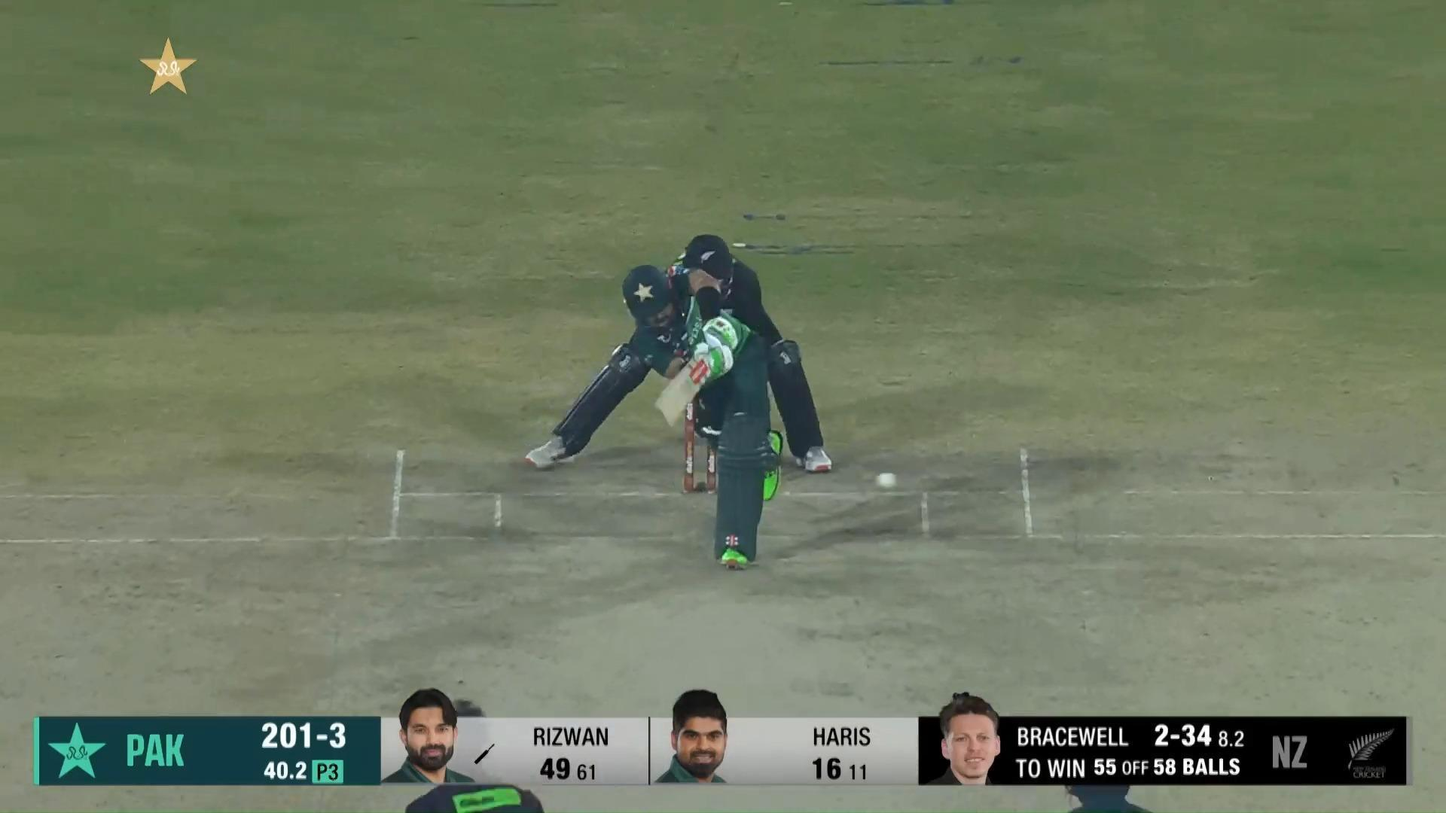BM 1: (622, 263, 769, 570)
BO: (401, 695, 547, 813)
